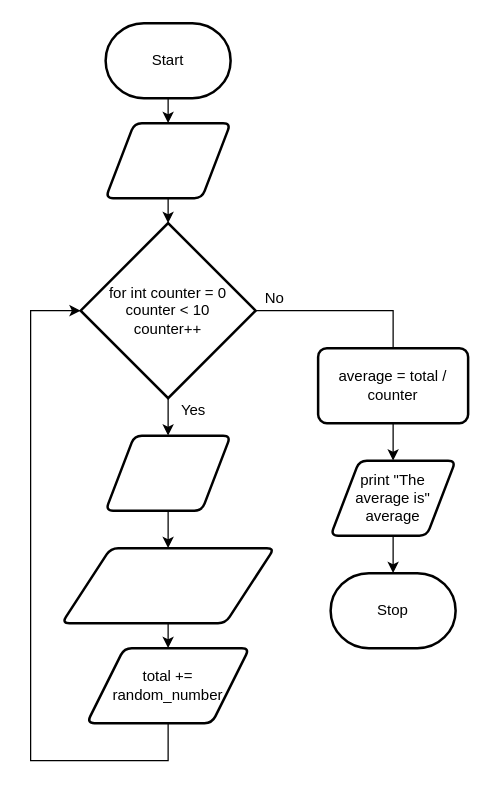
Image size: 491x793. Some labels were removed from this diagram. The centre of each missing label's shape, as x and y in pixels:
Generate random_num: point (167, 472)
print "Random number generated: random_num": point (167, 585)
total = 0: point (167, 160)
